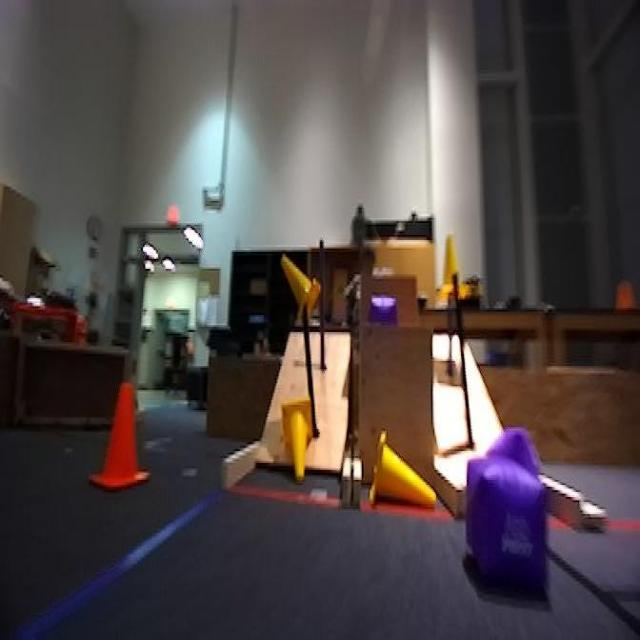frc_cone: (373, 430, 438, 510), (277, 397, 317, 485), (281, 256, 321, 324), (439, 228, 471, 308)
frc_cube: (470, 457, 552, 592), (488, 429, 554, 514), (365, 298, 404, 327)
